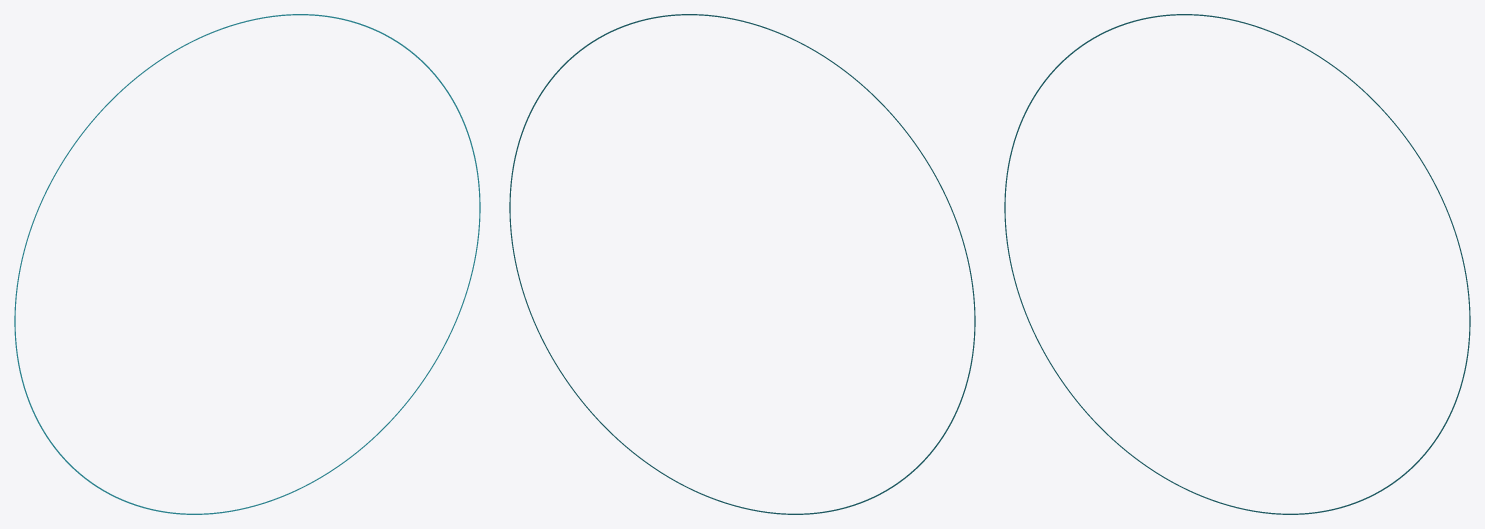
File: circule2.glb
3 views of the same model, side by side, from view 1: azimuth 30°, elevation 25°; view 2: azimuth 150°, elevation 25°; view 3: azimuth 330°, elevation 25° (orthographic).
Visible parts, largest first — view 1: Circle2; view 2: Circle2; view 3: Circle2.
Part boxes in pixels (box(x1,y1,x2,y2)): Circle2: box(14, 14, 480, 514); Circle2: box(509, 14, 975, 514); Circle2: box(1004, 14, 1470, 514).
Bounding box in the file's own units: 46.96 × 46.96 × 7.92e-06.
